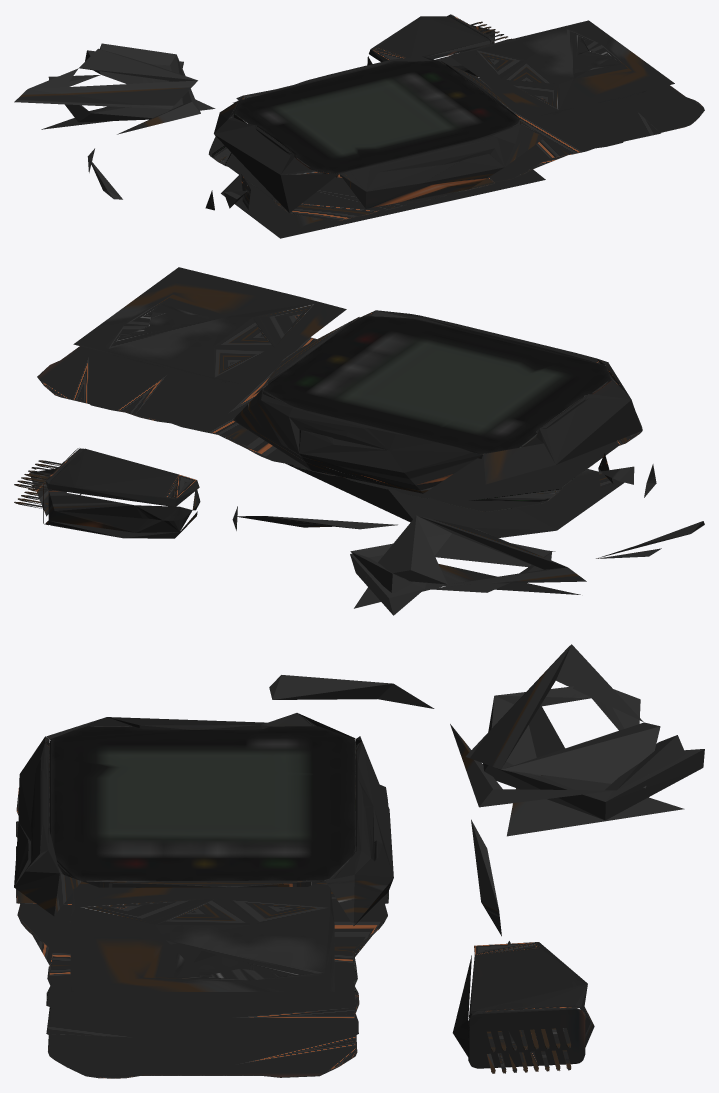
File: testingTool_obdII_scanner_c01.glb
3 renders of one model, top to bottom at view 1: azimuth 30°, elevation 25°; view 2: azimuth 150°, elevation 25°; view 3: azimuth 270°, elevation 25°, orthographic. The views are drawn at different scales.
Parts seen in each view (by area): view 1: geometry_0; view 2: geometry_0; view 3: geometry_0.
Part boxes in pixels (left/top/right/bottom): geometry_0: left=14, top=14, right=704, bottom=238; geometry_0: left=14, top=267, right=704, bottom=615; geometry_0: left=14, top=644, right=704, bottom=1078.
Size of the model in its own units: 0.42 by 0.0747 by 0.3072.
1 material, 1 textured.
